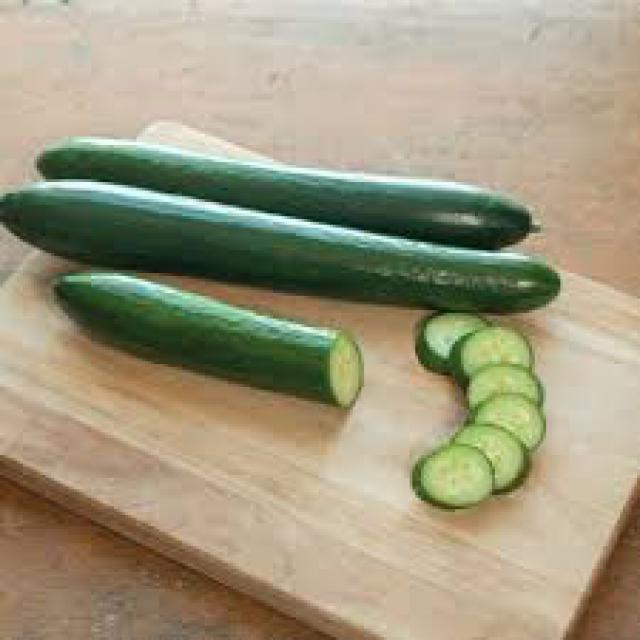cucumber: (6, 179, 569, 307), (36, 130, 558, 250), (48, 268, 367, 412), (449, 424, 532, 498), (464, 392, 550, 450), (421, 444, 495, 509), (458, 324, 540, 378), (412, 313, 480, 373), (469, 364, 549, 410)
